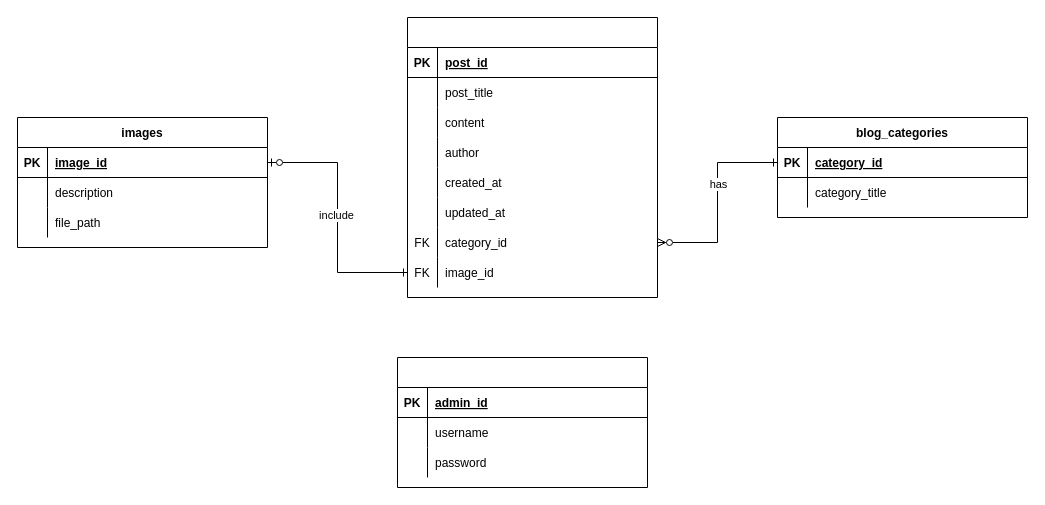
This 1045x505 diagram has some shape labels left out. The shapes that lost their labels are listed below. From the top down, each one's box as (x1, y1, x2, y2) in pixels, then its label:
(406, 16, 658, 298): blog_posts
(396, 356, 648, 488): administrators
